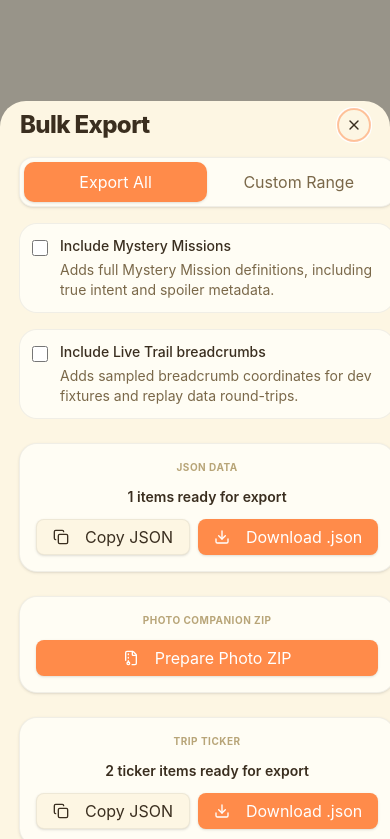
Test: BulkExportSheet › allows switching to custom date range
Click the button "Custom Range".
click(299, 182)  # box [207, 162, 389, 202]
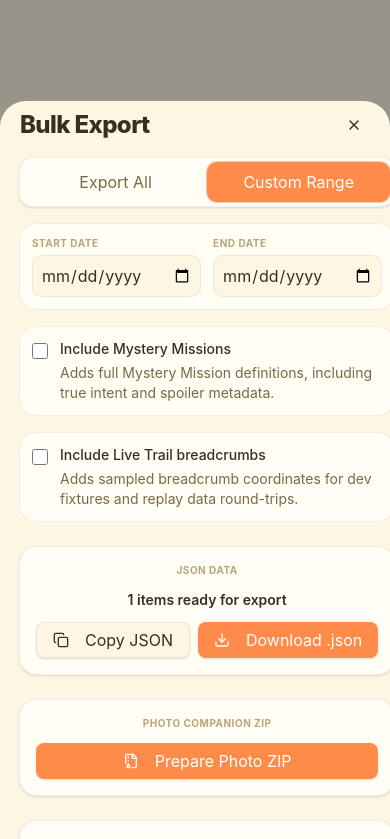
Result: the text "Start Date" is shown at [32, 237, 98, 249]
Result: the text "End Date" is shown at [213, 237, 266, 249]
